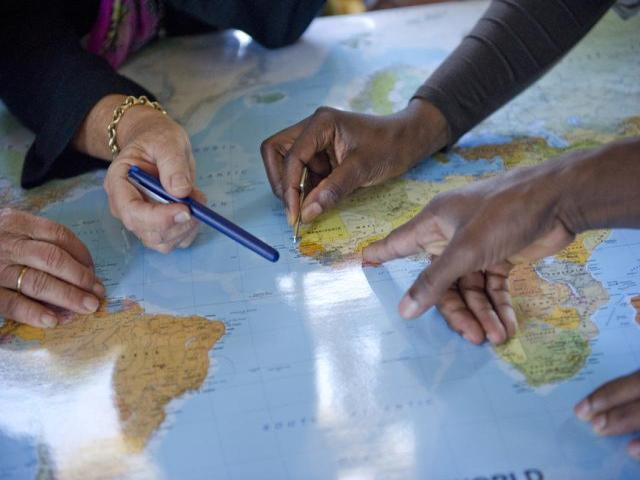PEN: (116, 160, 296, 275)
